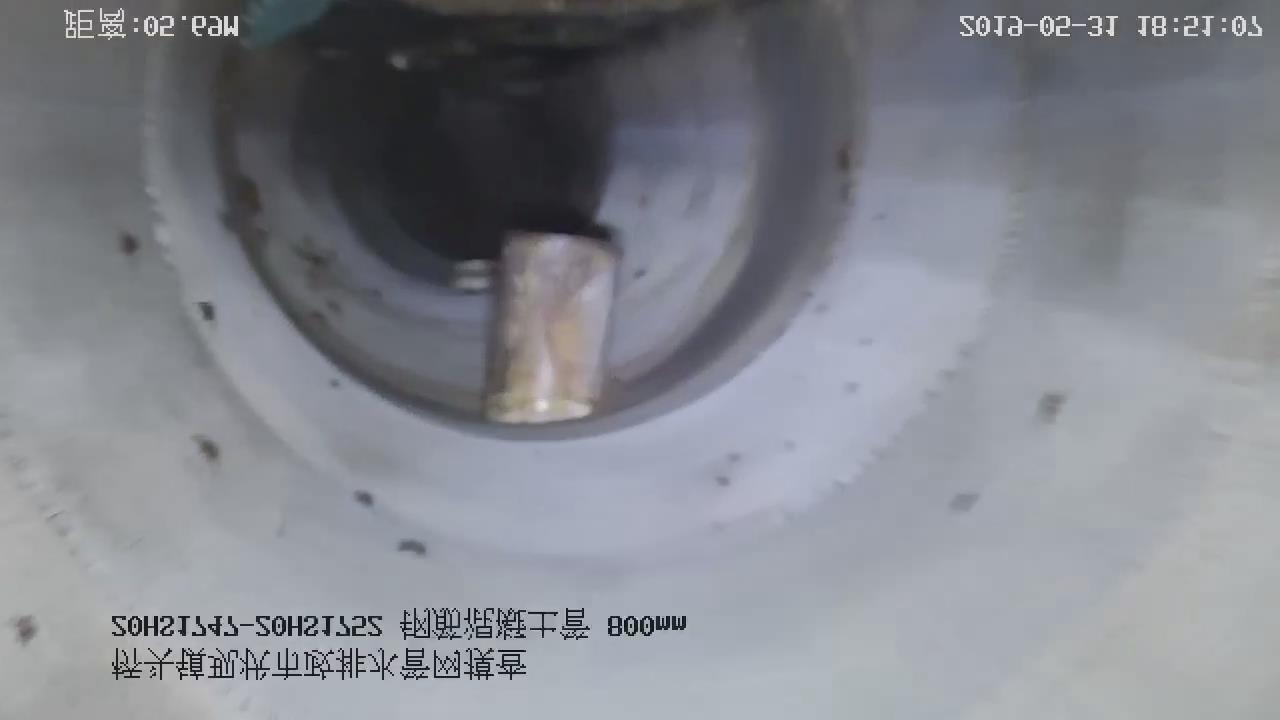ZGAJ: (483, 231, 619, 424)
